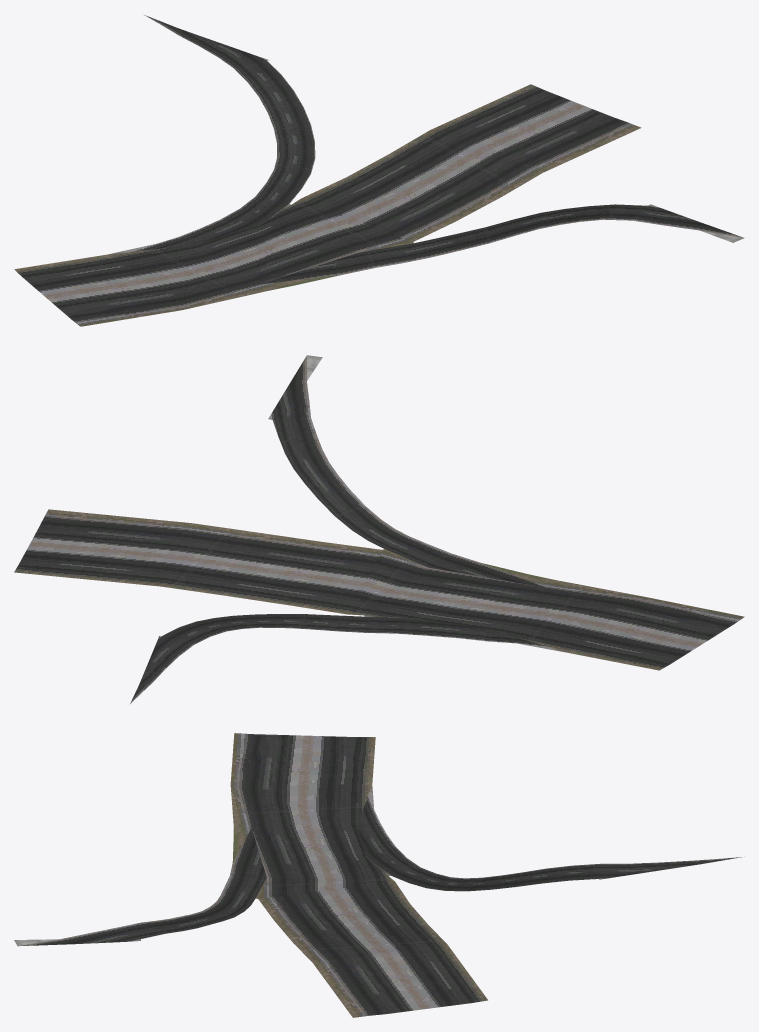
The model's file is lodcunte_roads23.obj.
3 views of the same model, one above another, from view 1: azimuth 30°, elevation 25°; view 2: azimuth 150°, elevation 25°; view 3: azimuth 270°, elevation 25° (orthographic). The views are drawn at different scales.
Parts seen in each view (by area): view 1: LODcunte_roads23; view 2: LODcunte_roads23; view 3: LODcunte_roads23.
Part boxes in pixels (bbox=[...]): LODcunte_roads23: bbox=[14, 14, 744, 326]; LODcunte_roads23: bbox=[14, 355, 744, 703]; LODcunte_roads23: bbox=[14, 733, 744, 1017].
Size of the model in its own units: 190 by 14.83 by 206.
3 materials, 3 textured.
